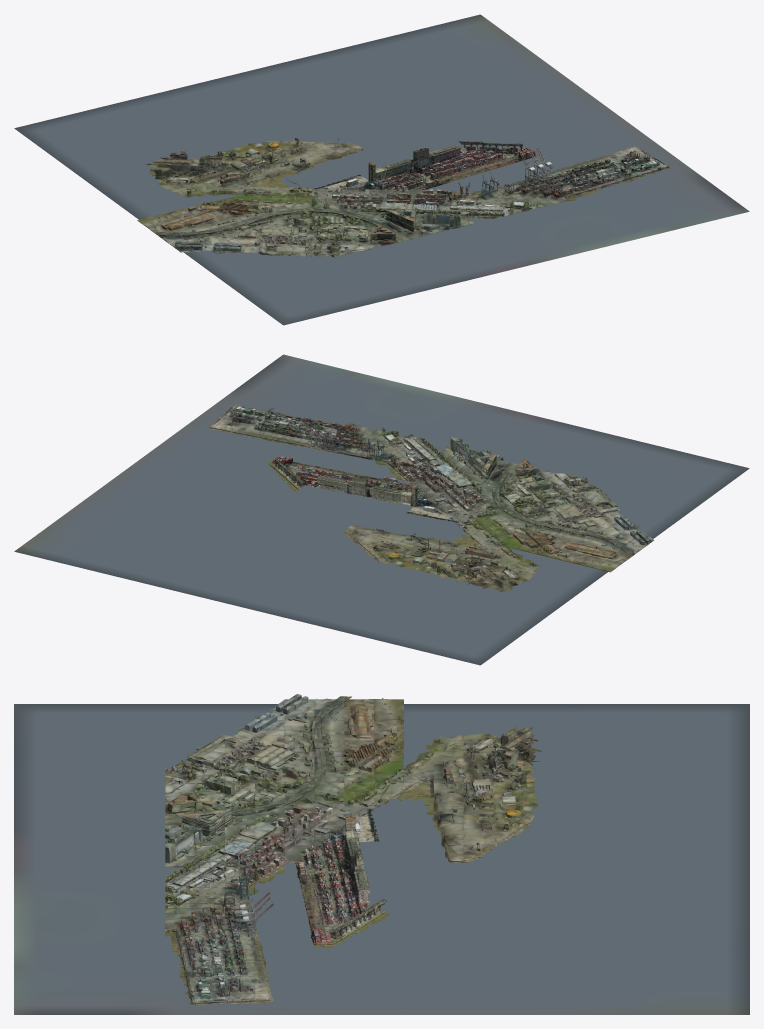
The model's file is apm-terminal-buenos-aires.glb.
3 views of the same model, one above another, from view 1: azimuth 30°, elevation 25°; view 2: azimuth 150°, elevation 25°; view 3: azimuth 270°, elevation 25° (orthographic). The views are drawn at different scales.
Parts seen in each view (by area): view 1: Plane; view 2: Plane; view 3: Plane.
Boxes of the visible parts, left/top/right/bottom form: Plane: left=14, top=14, right=749, bottom=325; Plane: left=14, top=354, right=749, bottom=665; Plane: left=14, top=694, right=749, bottom=1014.
Size of the model in its own units: 1893 by 113 by 1879.
Materials: 1 (1 with a texture image).
